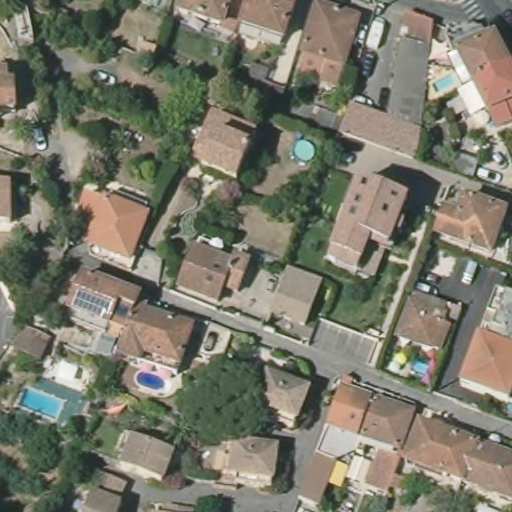pool: (16, 386, 63, 424), (134, 366, 168, 395), (290, 138, 316, 164), (430, 71, 458, 94), (412, 359, 433, 380)
